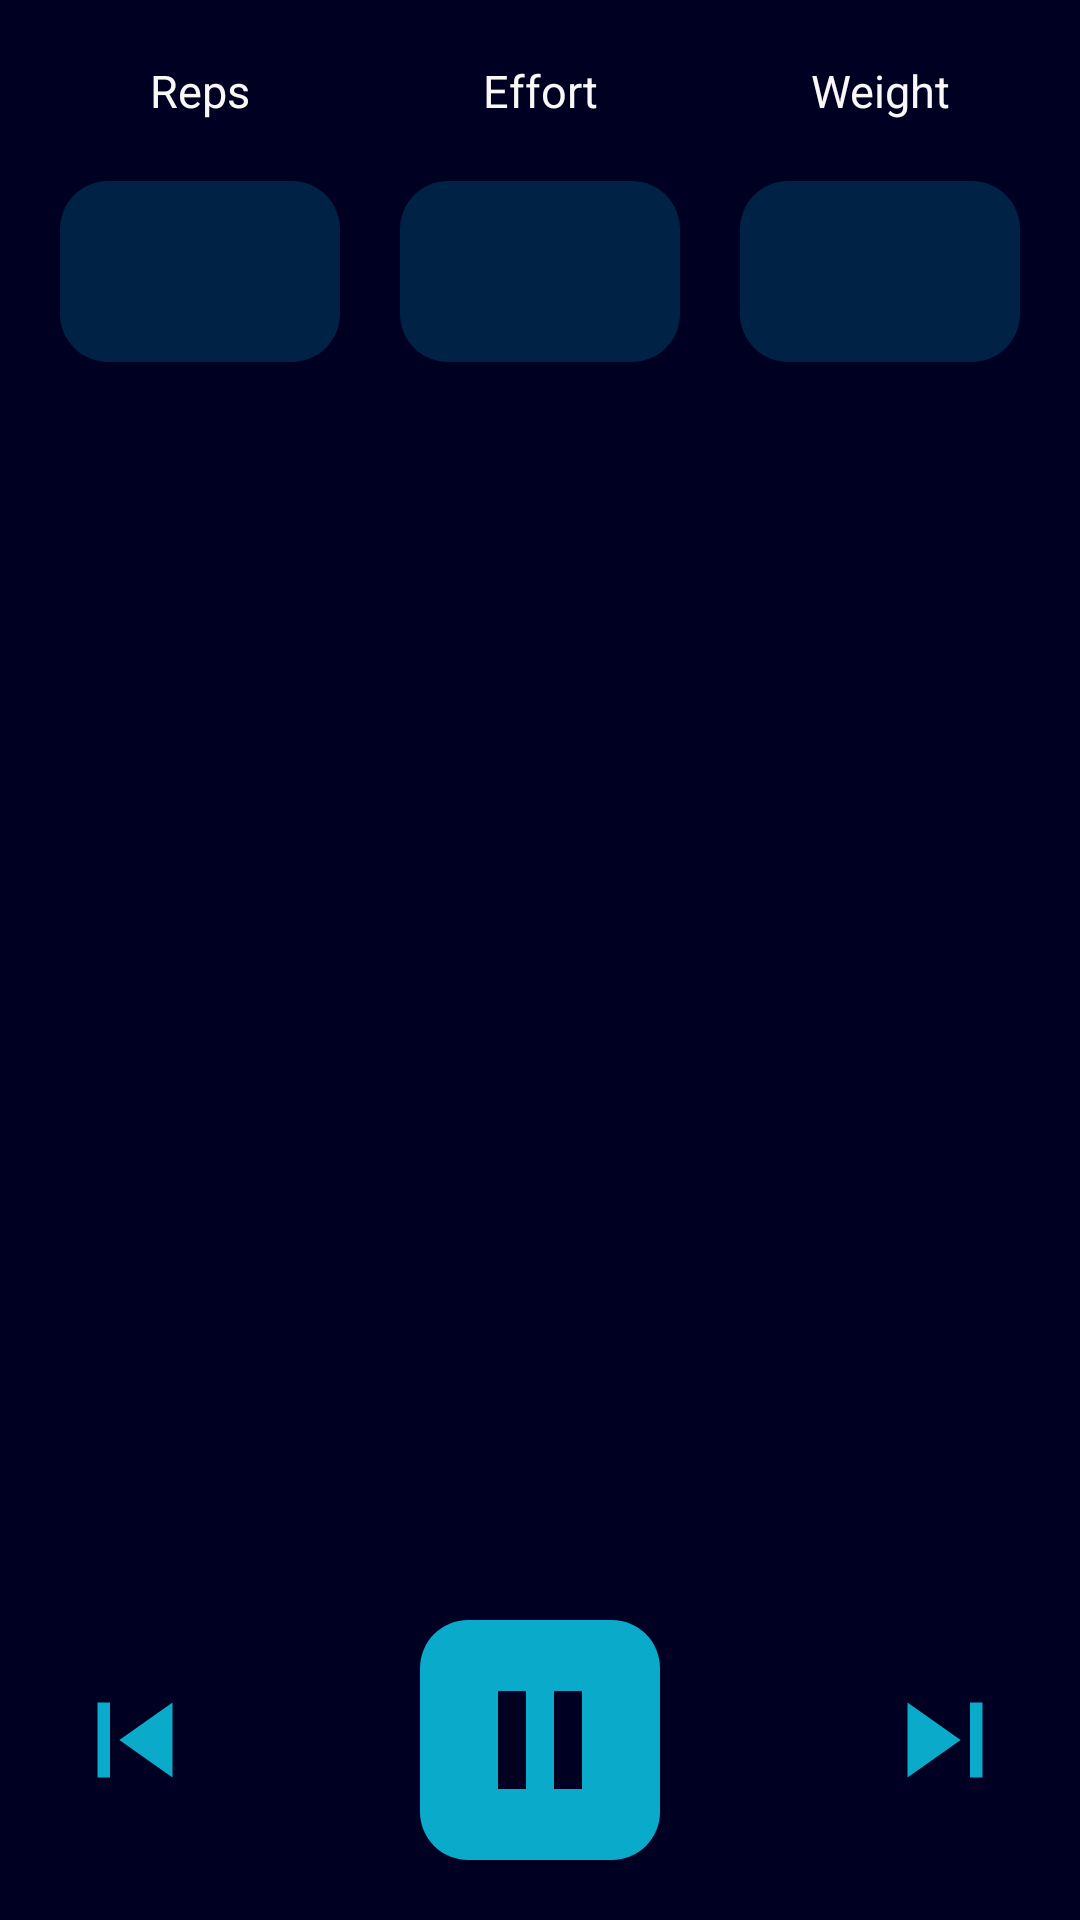

Where icons sit on this 1080x1920 app screen, as (x1, y1, x2, y2):
Next: (907, 1702, 983, 1778)
Pause: (420, 1620, 660, 1860)
Previous: (97, 1702, 173, 1778)
